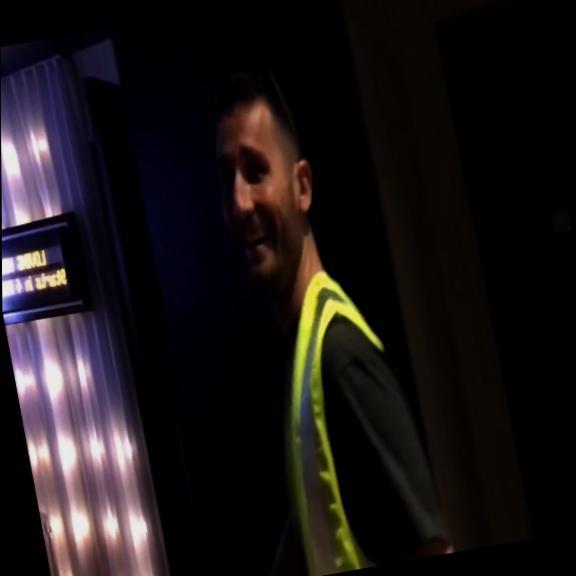safety_vest: (252, 260, 423, 576)
